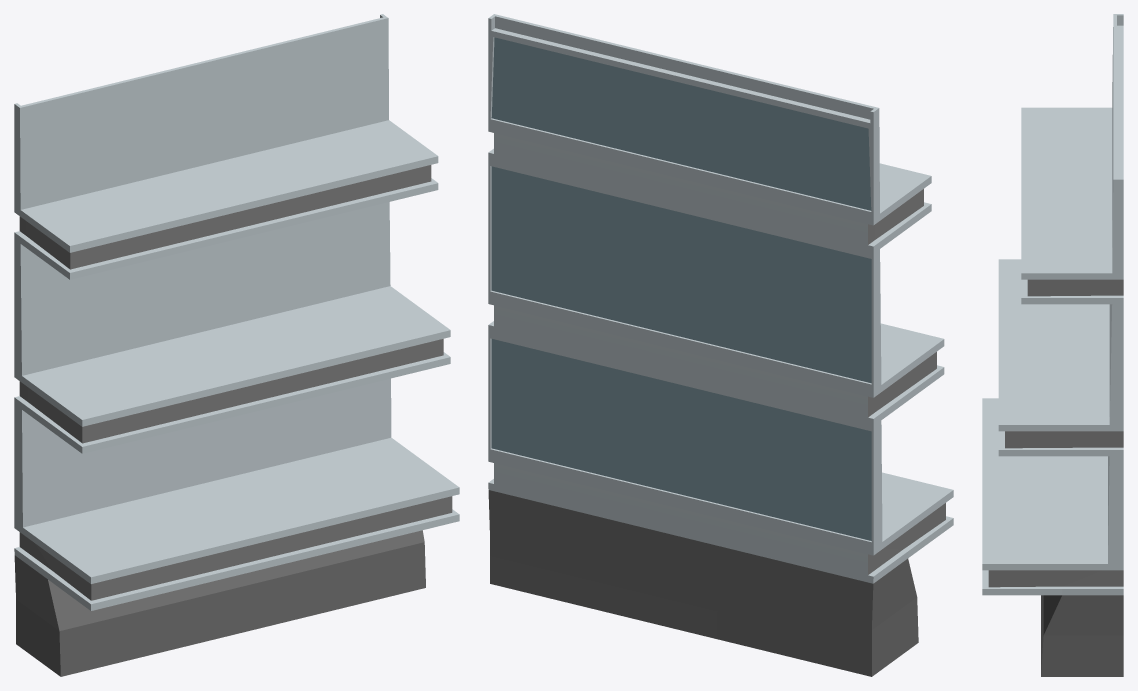
File: One Sided Shelving Small.fbx
3 renders of one model, left to right at view 1: azimuth 30°, elevation 25°; view 2: azimuth 150°, elevation 25°; view 3: azimuth 270°, elevation 25°, orthographic. The views are drawn at different scales.
Visible parts, largest first — view 1: One Sided Shelving Small; view 2: One Sided Shelving Small; view 3: One Sided Shelving Small.
Part boxes in pixels (box(x1,y1,x2,y2)): One Sided Shelving Small: box(14, 14, 459, 676); One Sided Shelving Small: box(488, 14, 953, 676); One Sided Shelving Small: box(982, 14, 1123, 676).
Bounding box in the file's own units: 111 × 156 × 40.09.
Materials: 1 (1 with a texture image).
